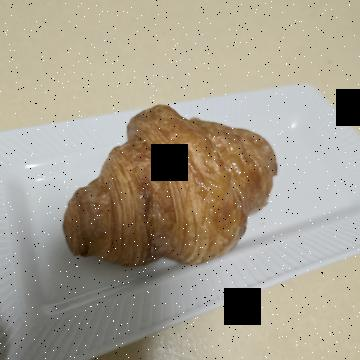croissant: (97, 75, 276, 304)
